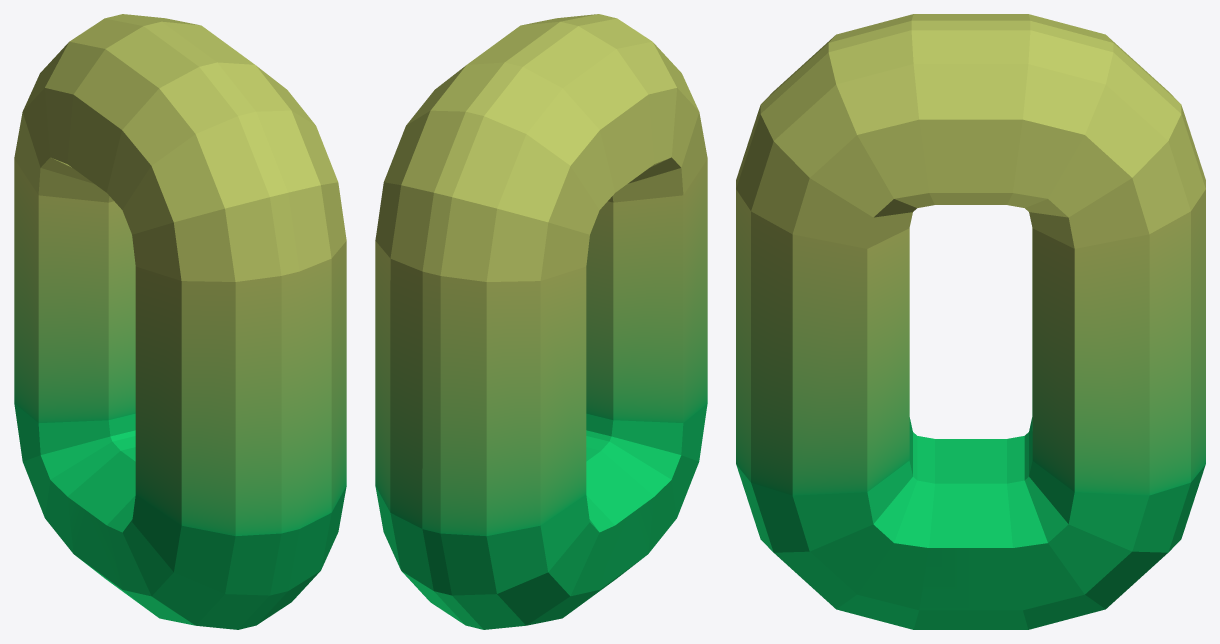
The model's file is PlayerCraneChain.fbx.
The picture shows the model from 3 angles, left to right: view 1: azimuth 30°, elevation 25°; view 2: azimuth 150°, elevation 25°; view 3: azimuth 270°, elevation 25°; orthographic projection. The views are drawn at different scales.
Parts seen in each view (by area): view 1: PlayerCraneChain; view 2: PlayerCraneChain; view 3: PlayerCraneChain.
Boxes of the visible parts, x1,y1,x2,y2 form: PlayerCraneChain: (14, 14, 346, 629); PlayerCraneChain: (375, 14, 707, 629); PlayerCraneChain: (736, 14, 1205, 629).
Size of the model in its own units: 13.92 by 39.21 by 28.15.
